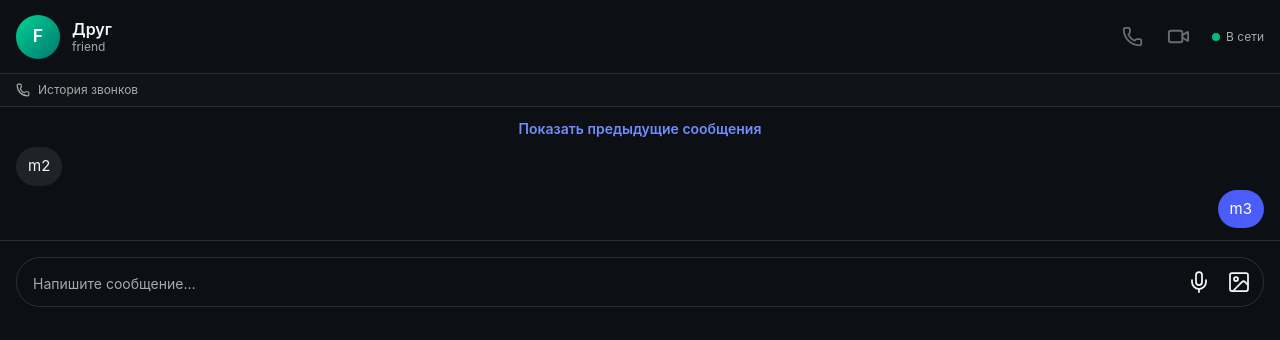
Test: conversation › shows history oldest first and loads older pages
This screenshot has width=1280, height=340.
Expected: the text "m3" is shown, top-left (1218, 190), bottom-right (1264, 228)
Step 1. Click the button "Показать предыдущие сообщения" → click(640, 129), box top-left (519, 119), bottom-right (761, 139)
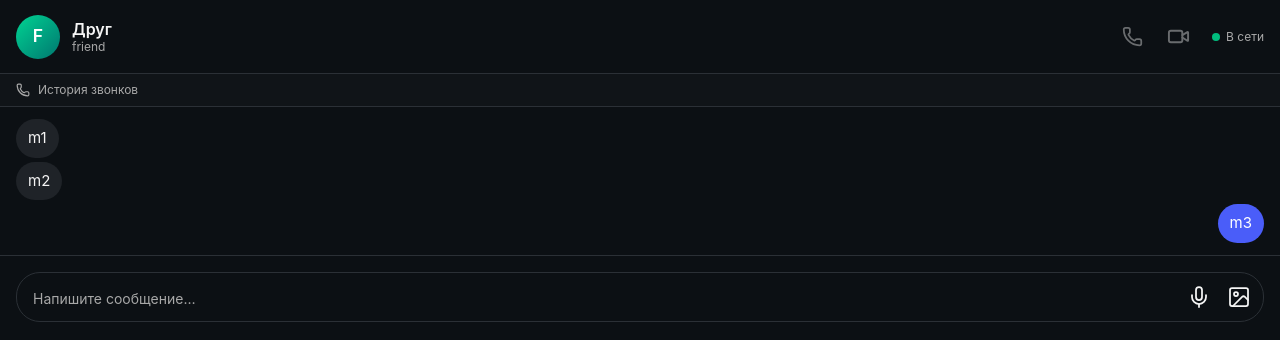
Expected: the text "m1" is shown, top-left (16, 119), bottom-right (59, 158)
Expected: the button "Показать предыдущие сообщения" is gone
